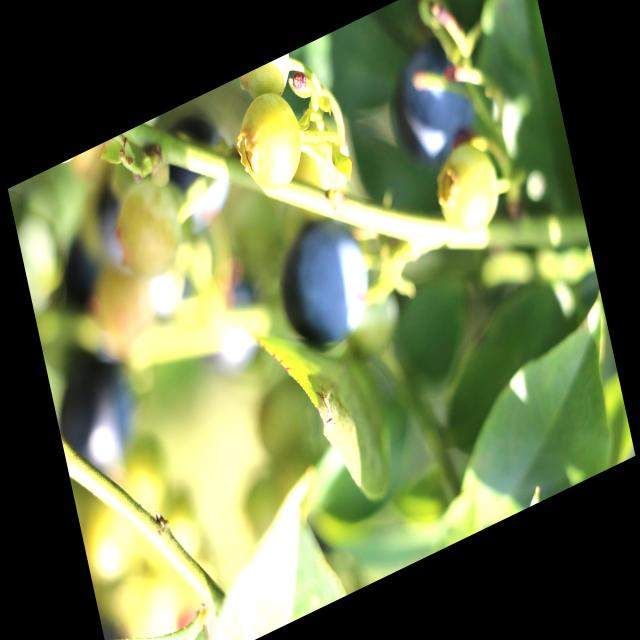blueberry: (264, 194, 382, 372), (374, 22, 489, 190), (49, 331, 148, 492), (140, 102, 238, 256), (191, 260, 274, 390), (87, 171, 158, 286)
blueberry-unripe: (231, 80, 311, 205), (430, 131, 509, 250), (236, 52, 298, 113)
